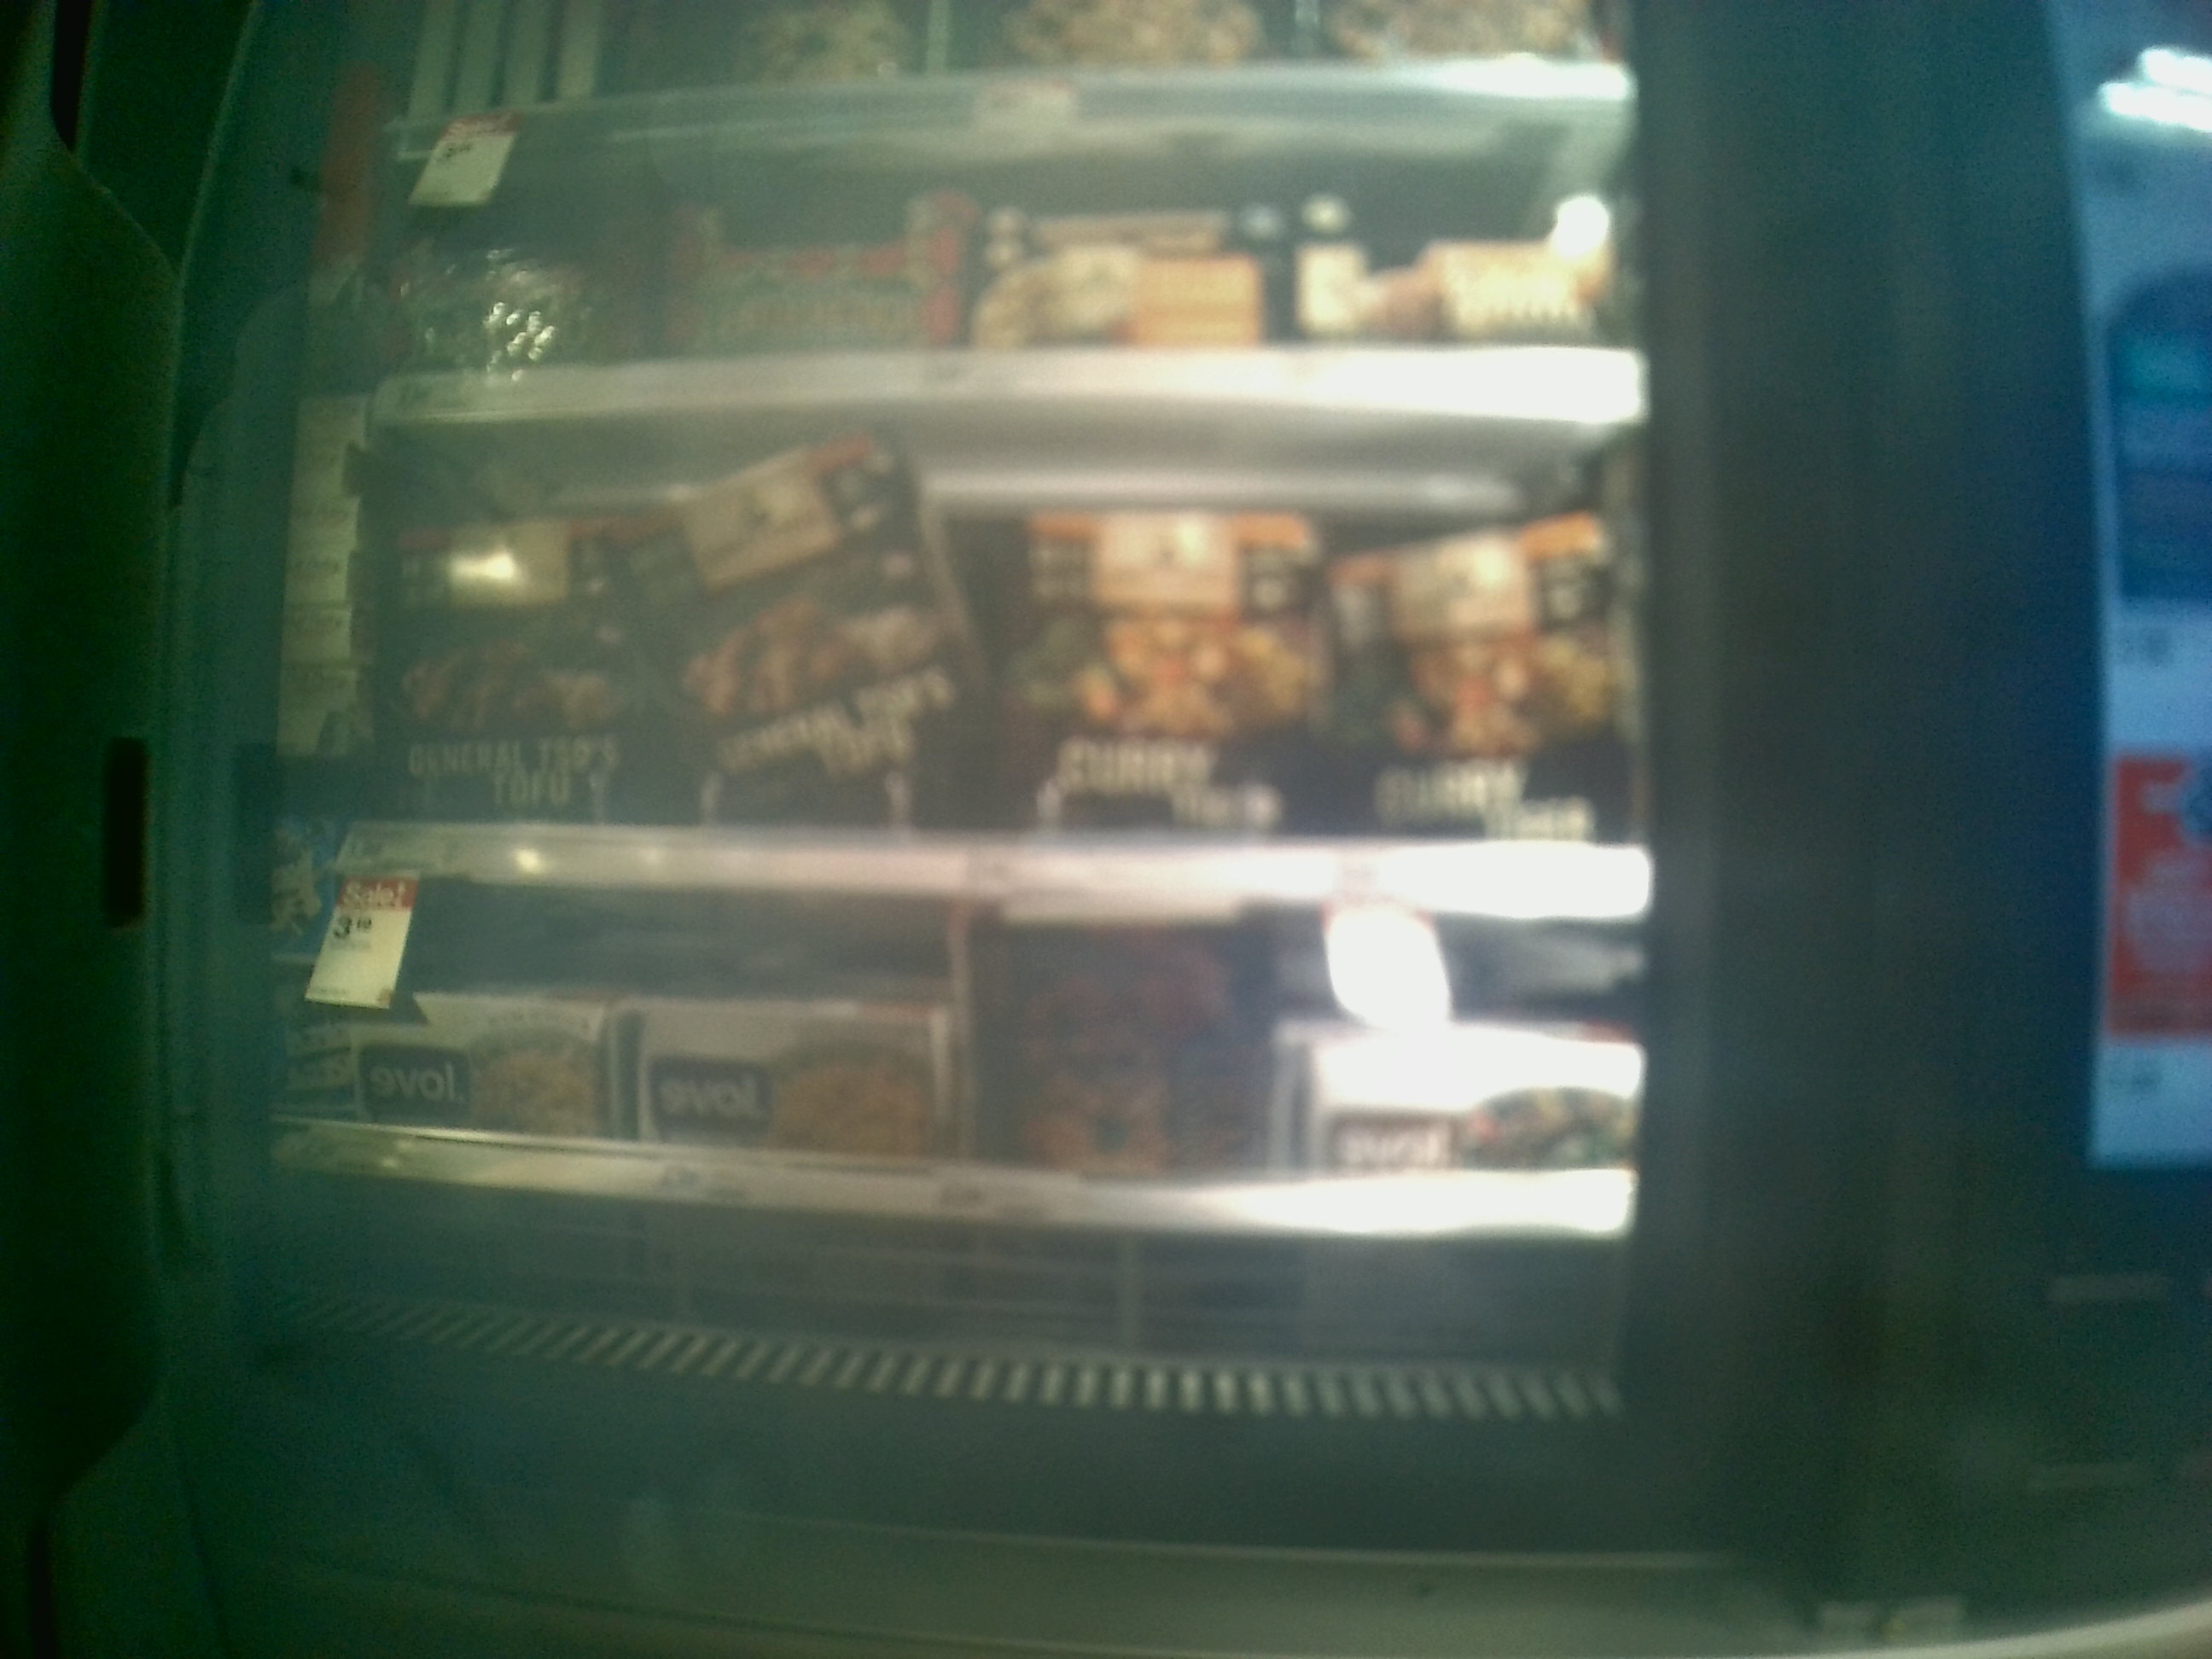frozen-food-shelf: (265, 425, 1669, 932), (254, 927, 1667, 1248)
